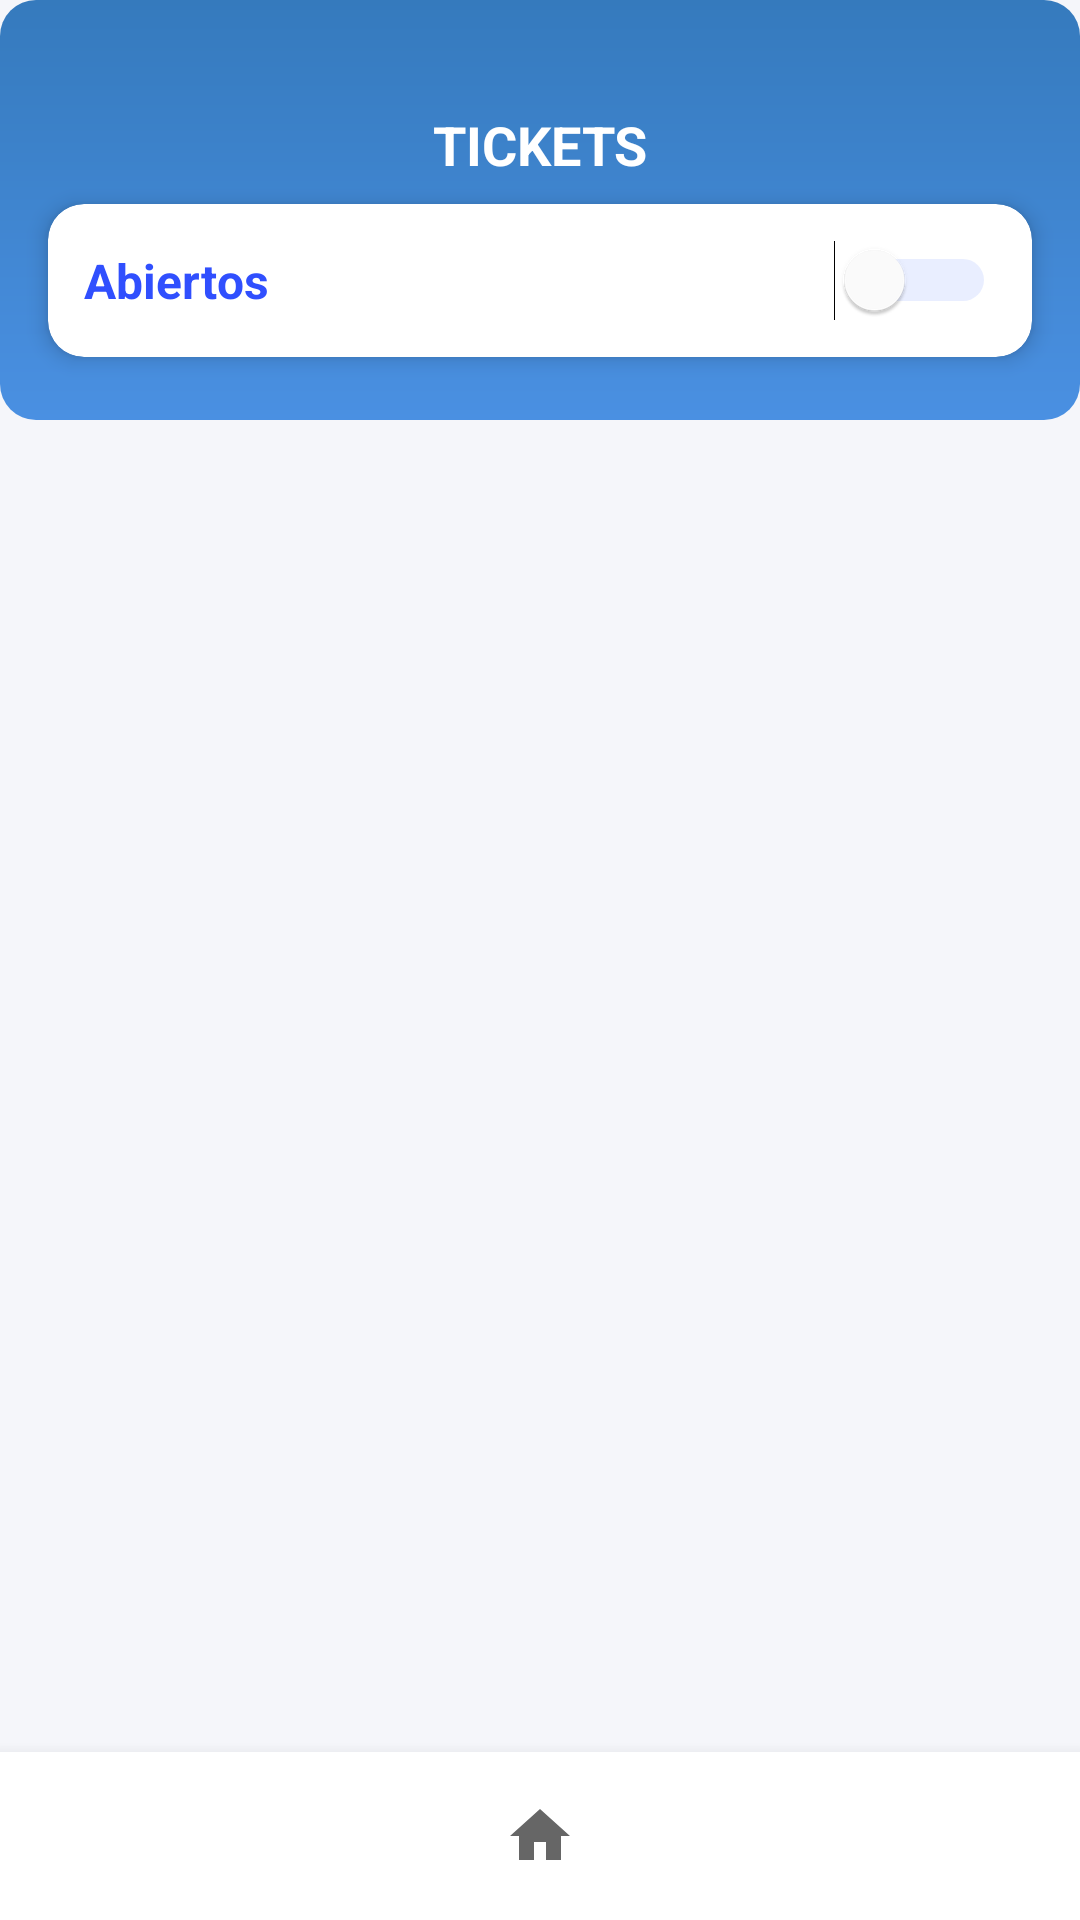

Icon click points for this 1080 × 1920 phone screenshot, format point (x, y):
Inicio: point (540, 1834)
